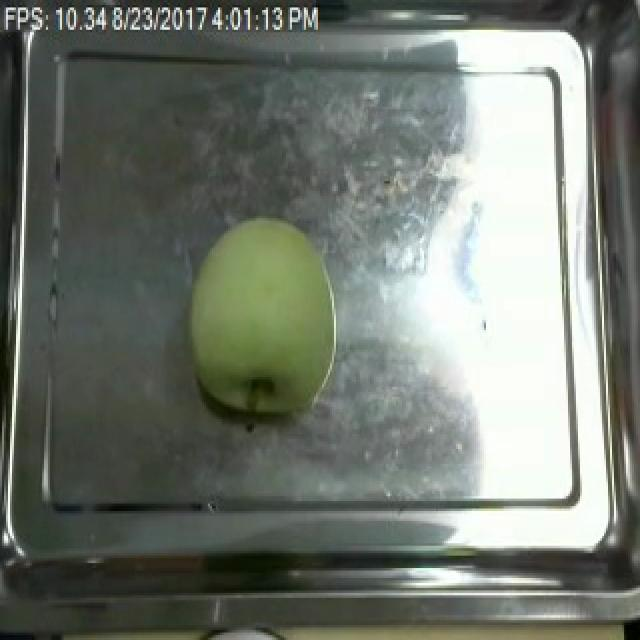50-_ripeness: (185, 215, 352, 430)
